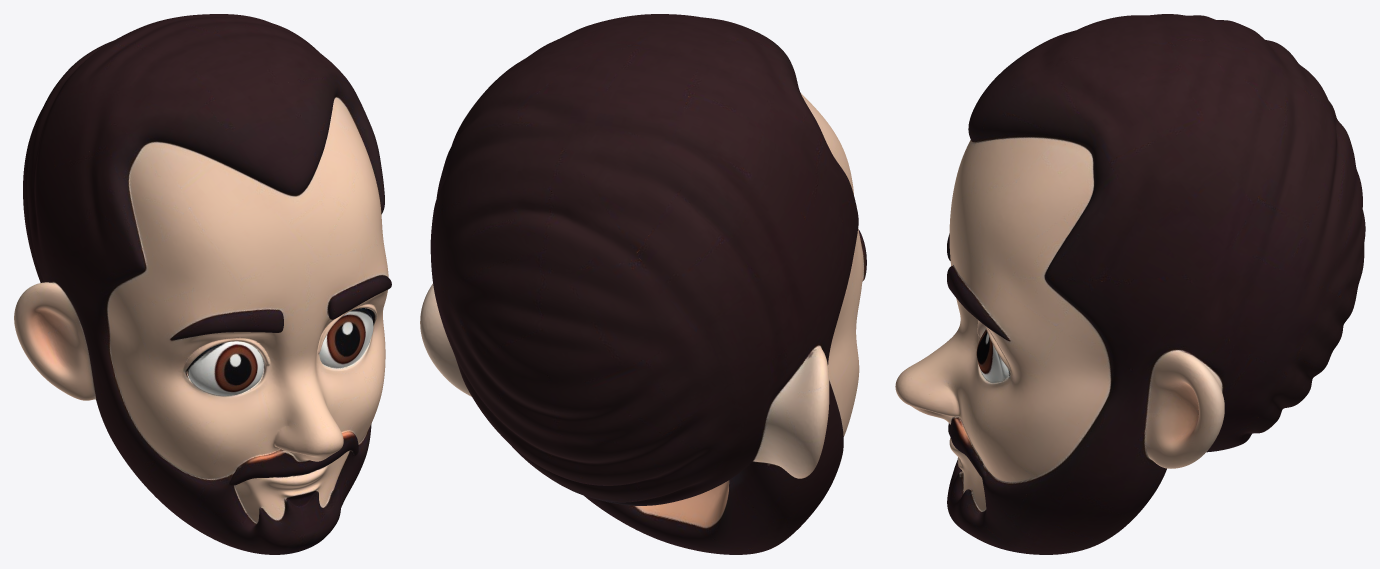
File: AvatarHead.glb
3 renders of one model, left to right at view 1: azimuth 30°, elevation 25°; view 2: azimuth 150°, elevation 25°; view 3: azimuth 270°, elevation 25°, orthographic. The views are drawn at different scales.
Visible parts, largest first — view 1: Head; view 2: Head; view 3: Head.
Part boxes in pixels (x1,y1,x2,y2): Head: (14, 14, 391, 554); Head: (420, 14, 866, 554); Head: (895, 14, 1365, 554).
Size of the model in its own units: 0.6113 by 0.7872 by 0.6674.
Materials: 1 (1 with a texture image).
